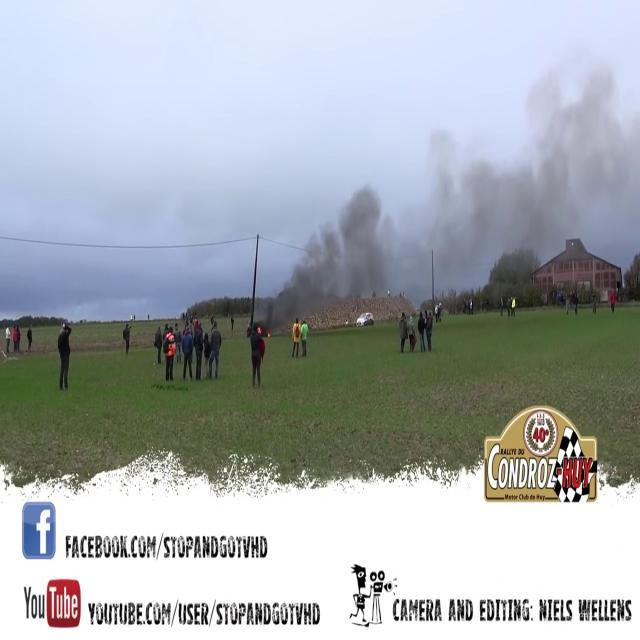Smoke: (272, 92, 630, 292), (276, 177, 398, 319)
